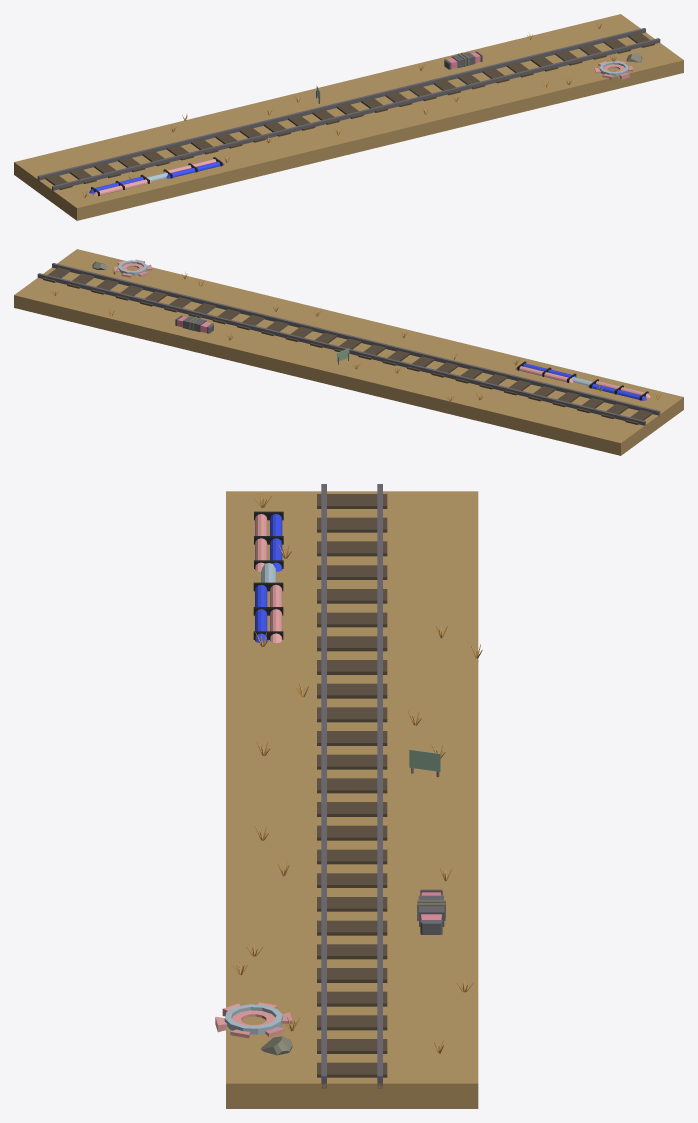
Rendered from Meio-Fabrica-3.glb.
3 renders of one model, top to bottom at view 1: azimuth 30°, elevation 25°; view 2: azimuth 150°, elevation 25°; view 3: azimuth 270°, elevation 25°, orthographic. The views are drawn at different scales.
Visible parts, largest first — view 1: CHAO.014, TRILHO.010, CANO.010, CANO.009; view 2: CHAO.014, TRILHO.010, CANO.010, CANO.009; view 3: CHAO.014, TRILHO.010, CANO.009, CANO.010, ENGRENAGEM.023, TUBO.020.
Boxes of the visible parts, <box> form: CHAO.014: <box>14,14,683,220</box>; TRILHO.010: <box>37,28,660,192</box>; CANO.010: <box>89,174,151,196</box>; CANO.009: <box>163,157,224,178</box>; CHAO.014: <box>14,249,683,455</box>; TRILHO.010: <box>37,263,660,425</box>; CANO.010: <box>588,379,650,400</box>; CANO.009: <box>515,361,576,382</box>; CHAO.014: <box>226,491,478,1108</box>; TRILHO.010: <box>317,484,387,1088</box>; CANO.009: <box>253,582,283,643</box>; CANO.010: <box>254,511,283,571</box>; ENGRENAGEM.023: <box>215,1002,292,1038</box>; TUBO.020: <box>224,1004,282,1034</box>.
Size of the model in its own units: 50 by 1.94 by 9.54.
